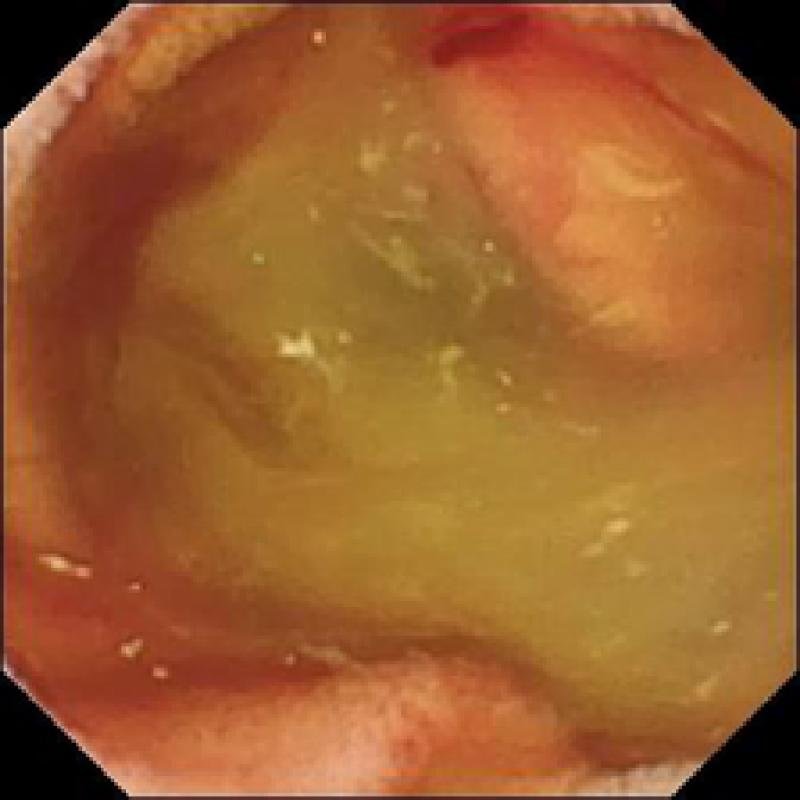bleeding: (20, 562, 491, 702), (36, 132, 218, 388), (618, 62, 782, 183), (421, 4, 575, 75)
